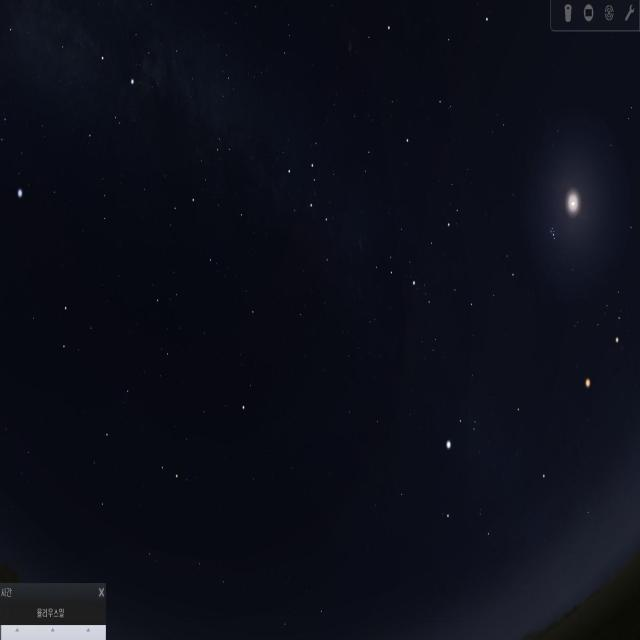cassiopeia: (278, 141, 342, 269)
moon: (536, 137, 607, 268)
pleiades: (542, 202, 563, 252)
